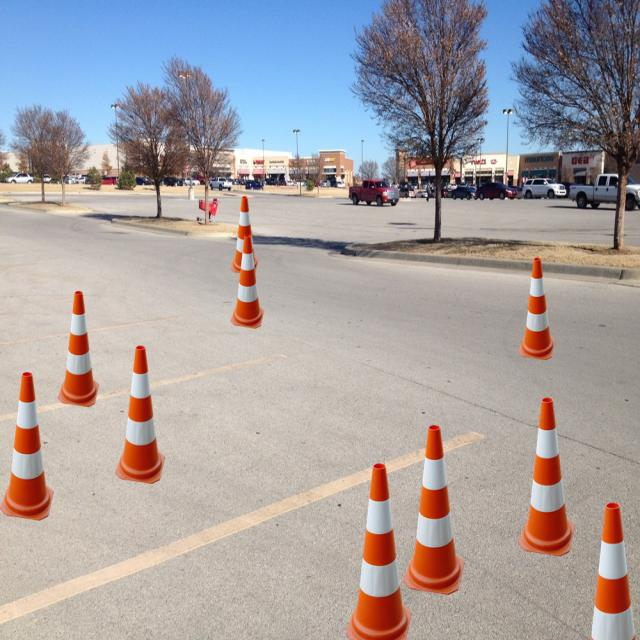large_orange_cone: (346, 463, 412, 640), (403, 425, 465, 595), (518, 398, 576, 556), (576, 502, 640, 640), (0, 372, 54, 521), (115, 346, 165, 484), (58, 291, 99, 407), (518, 258, 556, 360), (230, 234, 264, 328), (230, 196, 258, 275)
